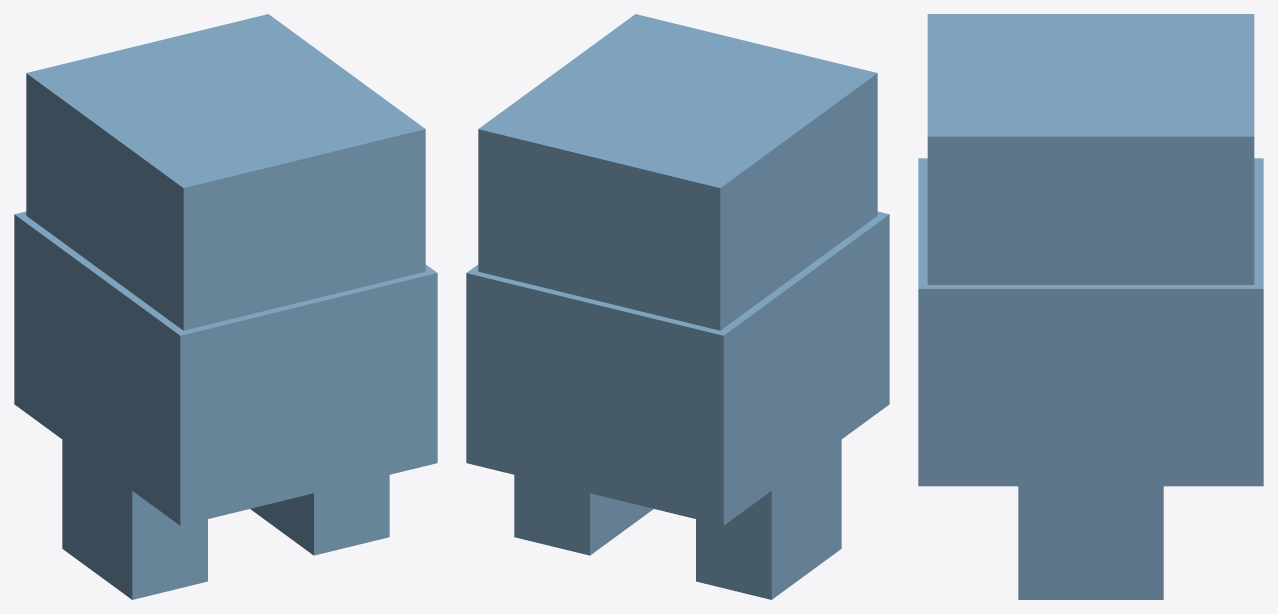
The model's file is gonk_cooler_droid.glb.
3 renders of one model, left to right at view 1: azimuth 30°, elevation 25°; view 2: azimuth 150°, elevation 25°; view 3: azimuth 270°, elevation 25°, orthographic. The views are drawn at different scales.
Visible parts, largest first — view 1: Gonk_Cooler_Droid; view 2: Gonk_Cooler_Droid; view 3: Gonk_Cooler_Droid.
Boxes of the visible parts, <box> form: Gonk_Cooler_Droid: <box>14,14,437,599</box>; Gonk_Cooler_Droid: <box>466,14,889,599</box>; Gonk_Cooler_Droid: <box>918,14,1263,599</box>.
Size of the model in its own units: 0.85 by 1.39 by 0.95.
